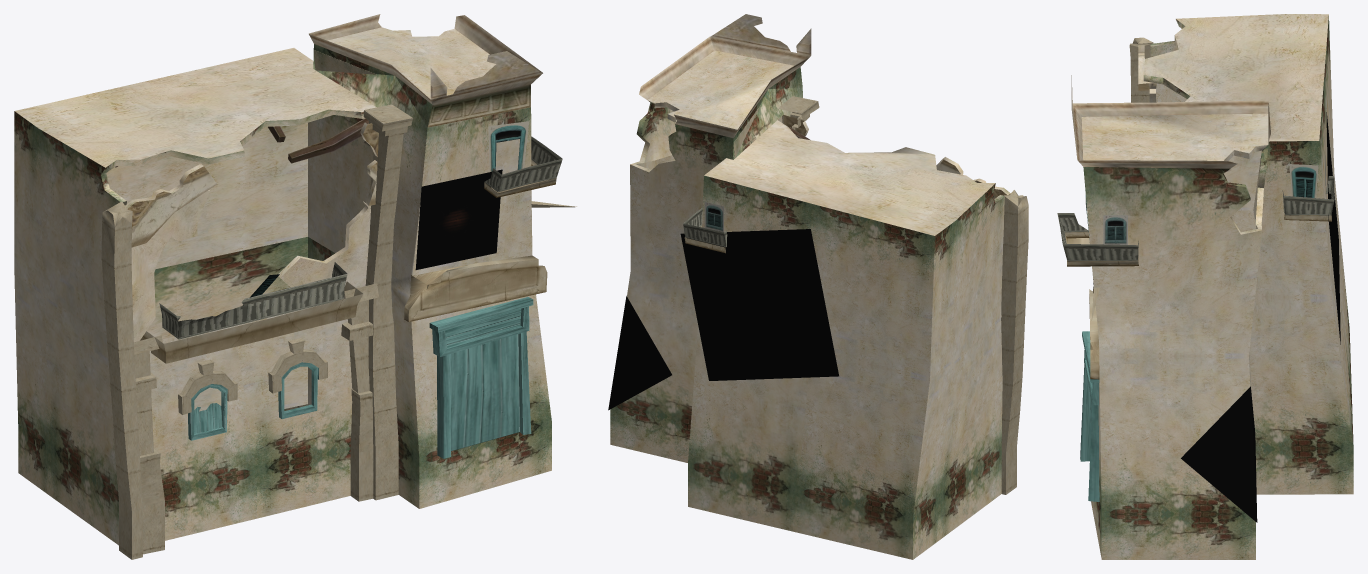
File: pir_m_bld_spn_tavern_burned.fbx
3 views of the same model, side by side, from view 1: azimuth 30°, elevation 25°; view 2: azimuth 150°, elevation 25°; view 3: azimuth 270°, elevation 25° (orthographic). The views are drawn at different scales.
Parts seen in each view (by area): view 1: Walls, Walls7, door_frame, column5, column4, cracks, Walls6, balcony_base2, Railing_02, FirstFloor36, polySurface404, FirstFloor35 (+4 smaller); view 2: Walls, cracks, column4, Walls6, railing_03, column5, flat_window3; view 3: Walls, Walls6, cracks, door_frame, Railing_01, railing_03, Walls7, flat_door2, column4, Window_01.
Boxes of the visible parts, <box> form: Walls: <box>14,14,556,545</box>; Walls7: <box>106,115,373,411</box>; door_frame: <box>429,297,533,458</box>; column5: <box>363,104,412,500</box>; column4: <box>101,201,142,559</box>; cracks: <box>415,169,502,269</box>; Walls6: <box>327,27,495,98</box>; balcony_base2: <box>140,281,362,363</box>; Railing_02: <box>159,262,347,339</box>; FirstFloor36: <box>350,389,373,501</box>; polySurface404: <box>341,283,378,393</box>; FirstFloor35: <box>140,447,164,554</box>; Walls: <box>610,14,1010,559</box>; cracks: <box>608,229,838,410</box>; column4: <box>1001,190,1028,494</box>; Walls6: <box>647,50,793,129</box>; railing_03: <box>683,207,727,247</box>; column5: <box>778,96,819,129</box>; flat_window3: <box>704,202,723,231</box>; Walls: <box>1065,14,1353,559</box>; Walls6: <box>1081,113,1268,160</box>; cracks: <box>1093,112,1340,522</box>; door_frame: <box>1080,331,1099,501</box>; Railing_01: <box>1057,213,1138,261</box>; railing_03: <box>1282,176,1334,215</box>; Walls7: <box>1150,43,1284,232</box>; flat_door2: <box>1289,164,1318,197</box>; column4: <box>1129,37,1153,102</box>; Window_01: <box>1103,215,1127,244</box>.
Size of the model in its own units: 4769 by 4594 by 2912.
Materials: 5 (5 with a texture image).
